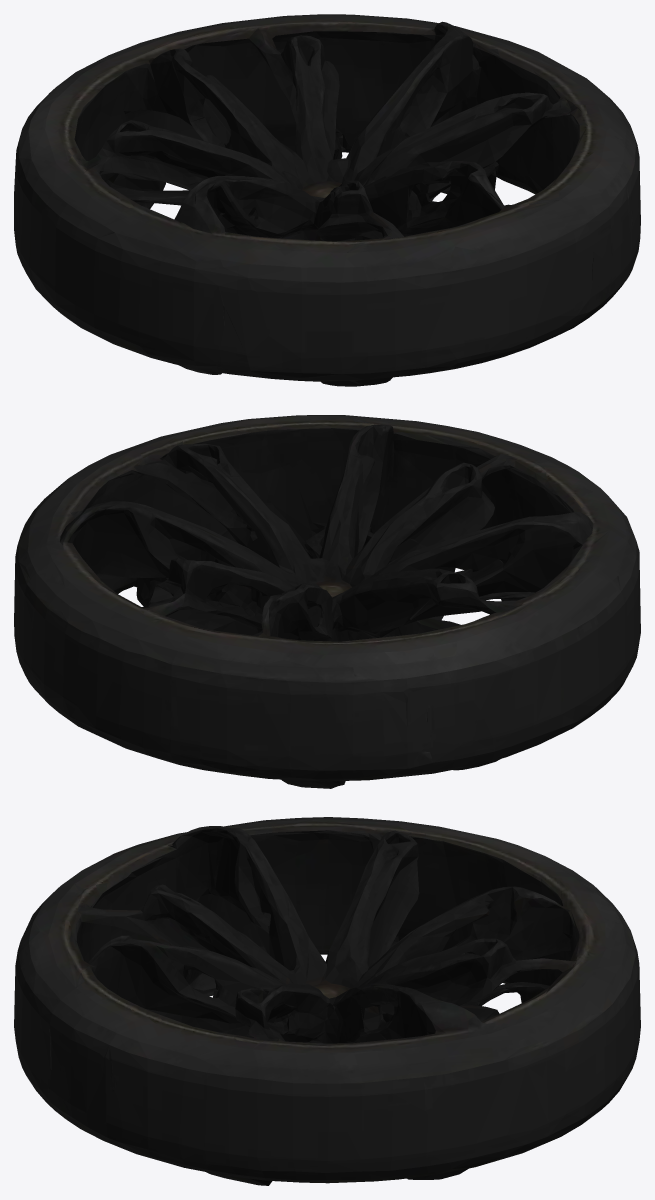
File: tire.glb
3 views of the same model, one above another, from view 1: azimuth 30°, elevation 25°; view 2: azimuth 150°, elevation 25°; view 3: azimuth 270°, elevation 25° (orthographic).
Visible parts, largest first — view 1: geometry_0; view 2: geometry_0; view 3: geometry_0.
Part boxes in pixels (x1,y1,x2,y2): geometry_0: (14, 14, 640, 386); geometry_0: (14, 415, 640, 788); geometry_0: (14, 817, 640, 1185).
Bounding box in the file's own units: 0.9995 × 0.3072 × 0.9995.
1 material, 1 textured.
